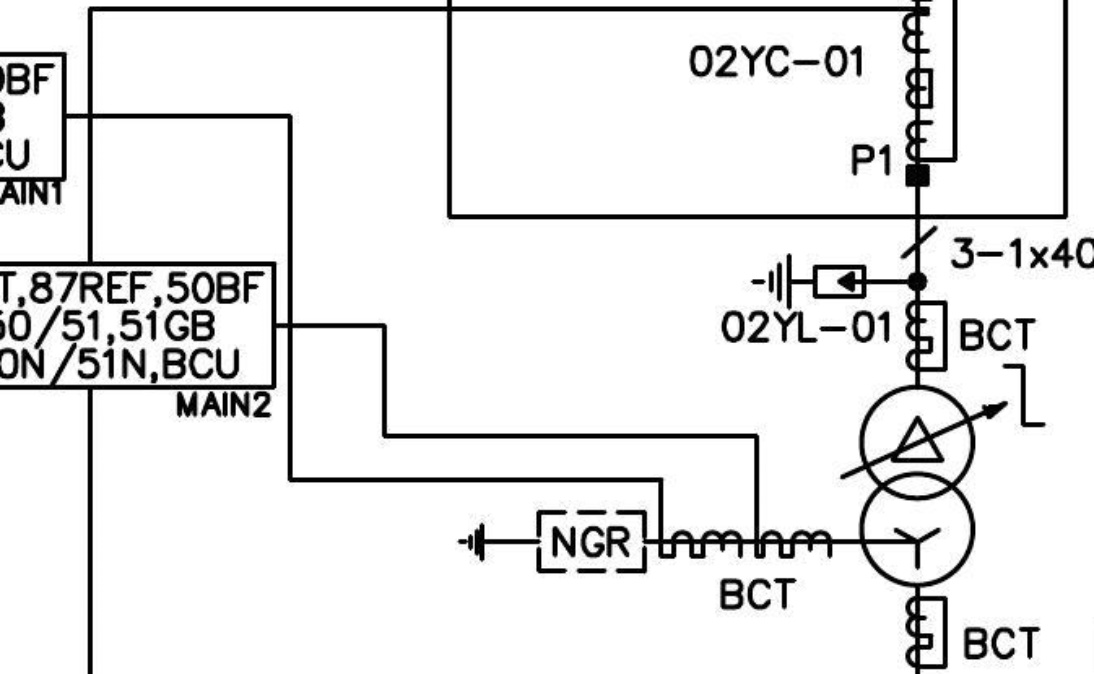11522_tx_dyn1: (858, 384, 977, 589)
115_la: (749, 252, 868, 312)
NGR_future: (456, 509, 648, 575)
